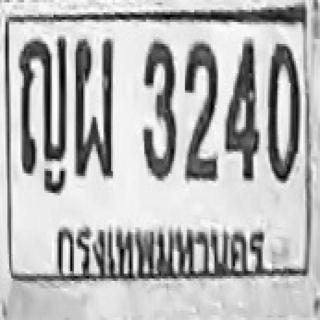A13: (18, 34, 68, 173), (18, 55, 68, 175)
A28: (72, 37, 115, 176), (72, 61, 115, 176)
N00: (266, 40, 300, 182)
N02: (184, 39, 217, 171), (183, 60, 218, 180)
N03: (140, 38, 177, 177)
N04: (224, 38, 259, 180)
P04: (52, 214, 270, 285)
